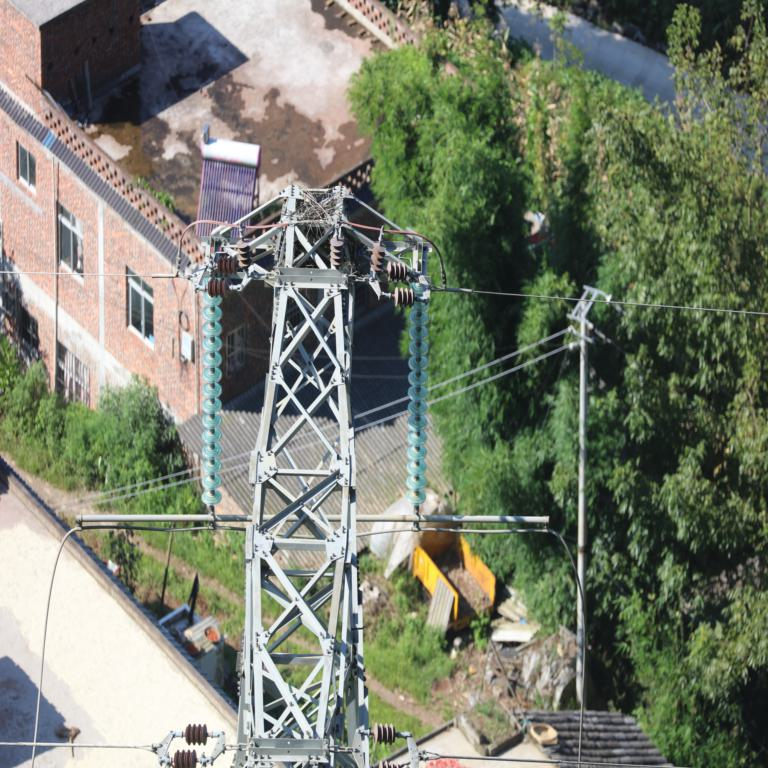nest: (285, 194, 337, 260)
